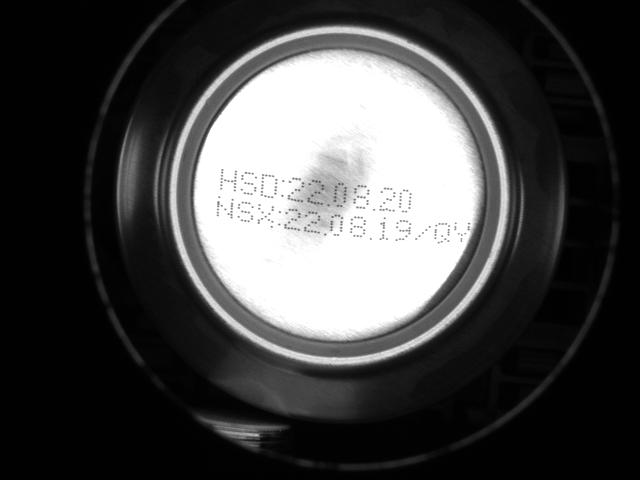.: (323, 192, 332, 209), (320, 222, 329, 239), (368, 225, 377, 242), (369, 196, 376, 213)
/: (411, 222, 431, 244)
0: (332, 180, 349, 210), (327, 211, 344, 241), (396, 186, 413, 216)
1: (377, 215, 390, 243)
2: (286, 173, 304, 204), (283, 204, 301, 235), (306, 176, 324, 207), (302, 207, 320, 238), (377, 182, 395, 213)
8: (351, 182, 372, 213), (347, 213, 368, 244)
9: (393, 218, 412, 243)
:: (278, 174, 287, 201), (275, 205, 284, 232)
D: (260, 170, 278, 201)
H: (216, 164, 239, 194)
N: (214, 193, 235, 224)
Q: (431, 220, 451, 247)
S: (239, 167, 259, 199), (235, 197, 255, 229)
X: (256, 200, 276, 229)
Y: (452, 220, 472, 246)
